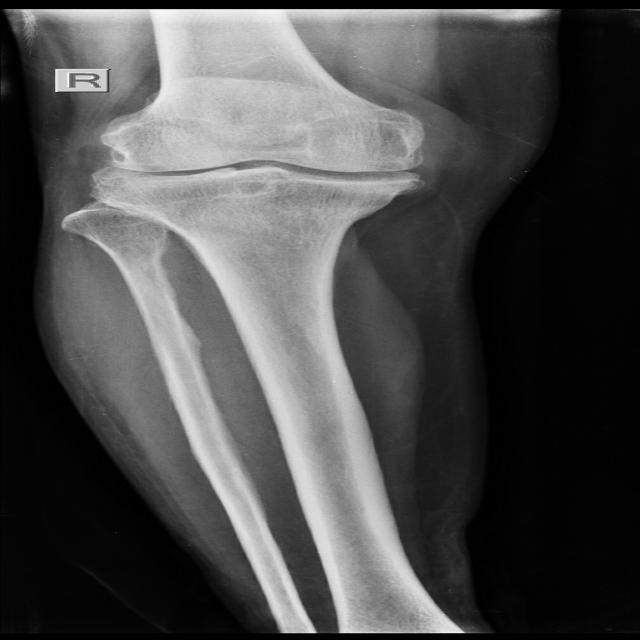normal: (99, 116, 431, 214)
